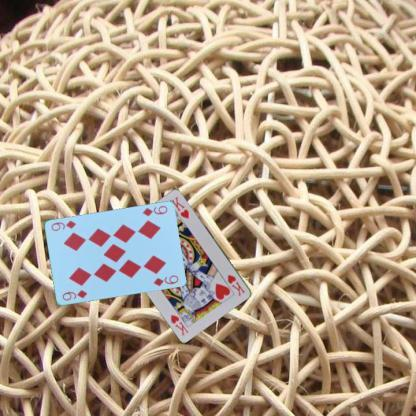9d: (60, 287, 89, 302), (140, 203, 169, 218)
Kh: (224, 272, 247, 298)
